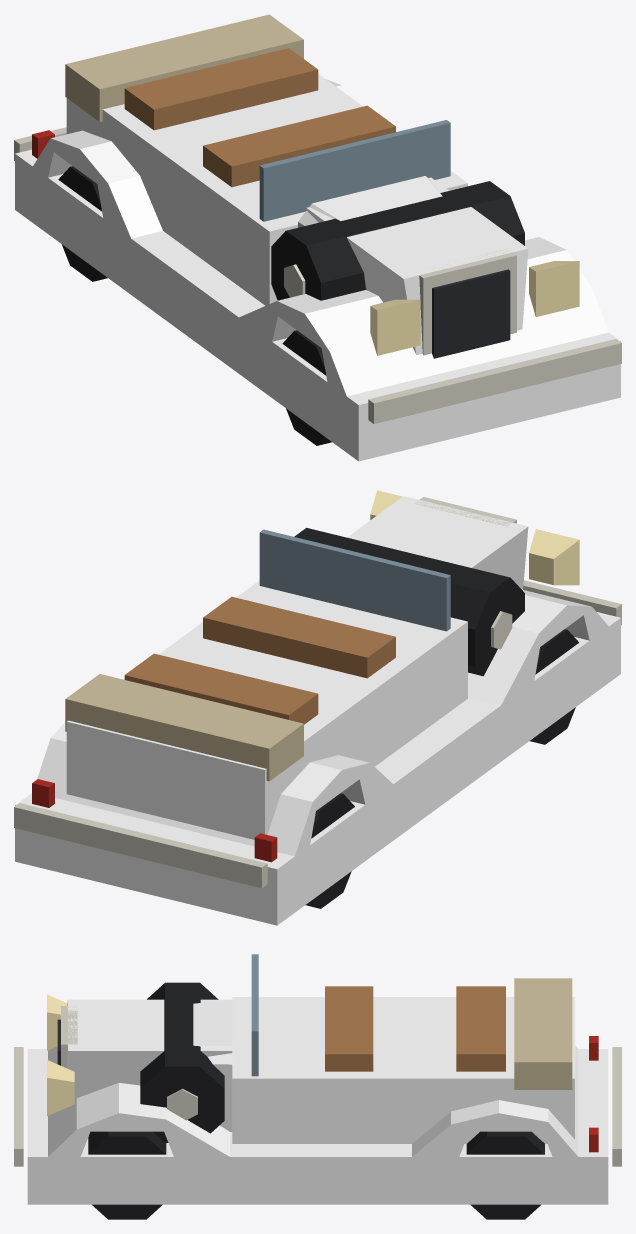
Rendered from car_tourer.glb.
3 renders of one model, top to bottom at view 1: azimuth 30°, elevation 25°; view 2: azimuth 150°, elevation 25°; view 3: azimuth 270°, elevation 25°, orthographic. The views are drawn at different scales.
Parts seen in each view (by area): view 1: model, far; view 2: model, far; view 3: far, model.
Boxes of the visible parts, left/top/right/bottom form: model: left=14, top=14, right=621, bottom=445; far: left=15, top=74, right=620, bottom=461; model: left=14, top=490, right=621, bottom=908; far: left=15, top=496, right=620, bottom=925; far: left=27, top=997, right=608, bottom=1204; model: left=14, top=954, right=621, bottom=1219.
Bounding box in the file's own units: 1.85 × 1.4 × 4.4.
